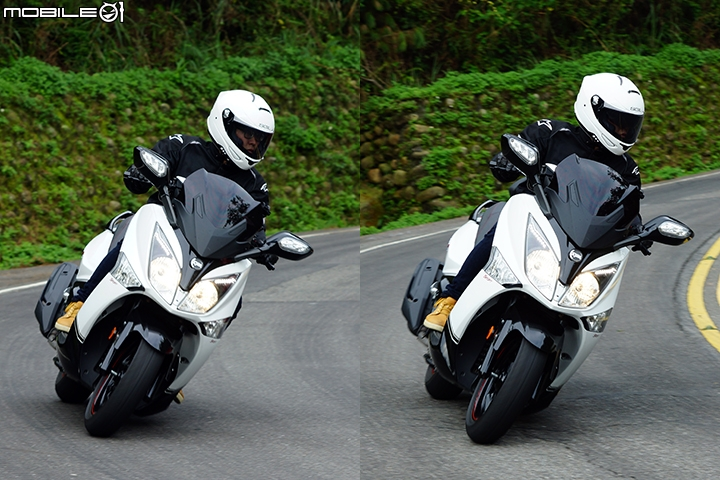helmet: (571, 66, 653, 155), (206, 91, 278, 172)
